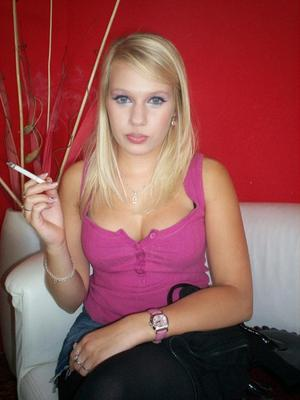person: (18, 31, 254, 398)
